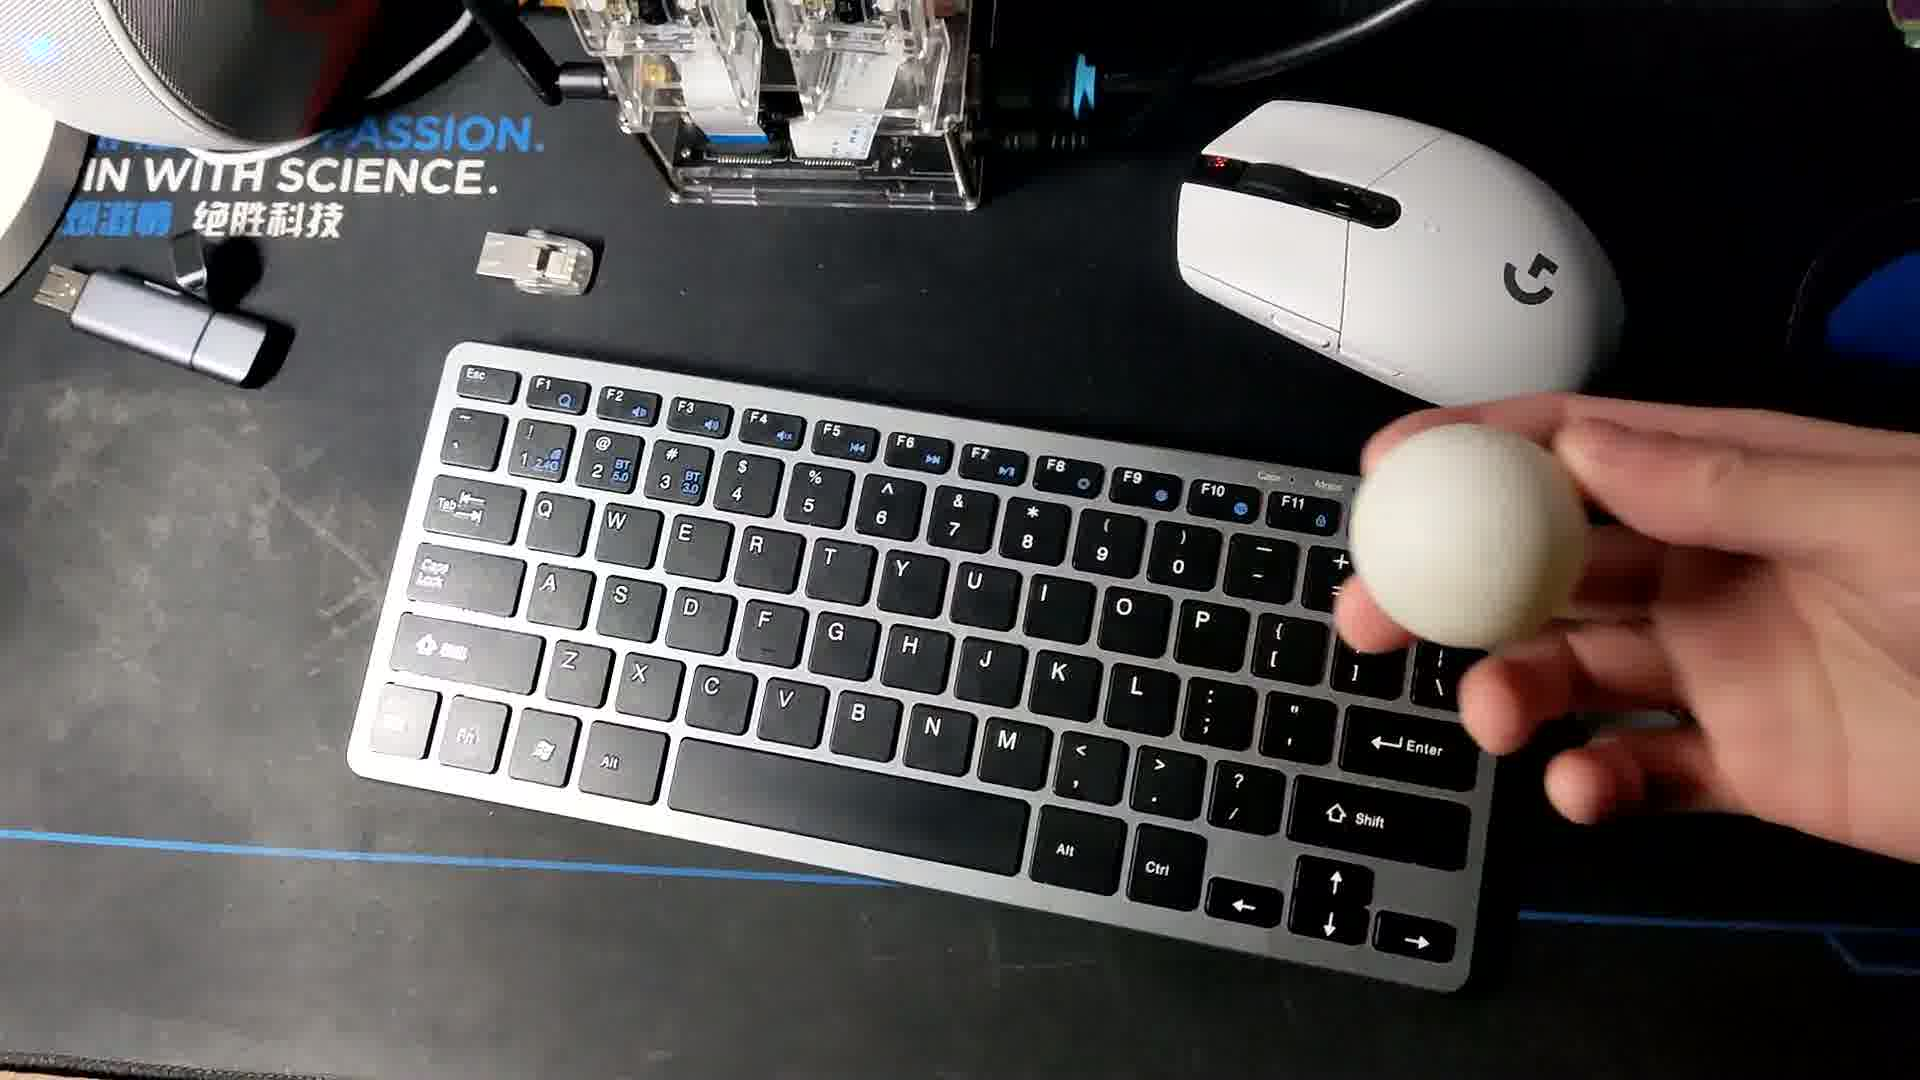Ball: (1350, 429, 1585, 644)
